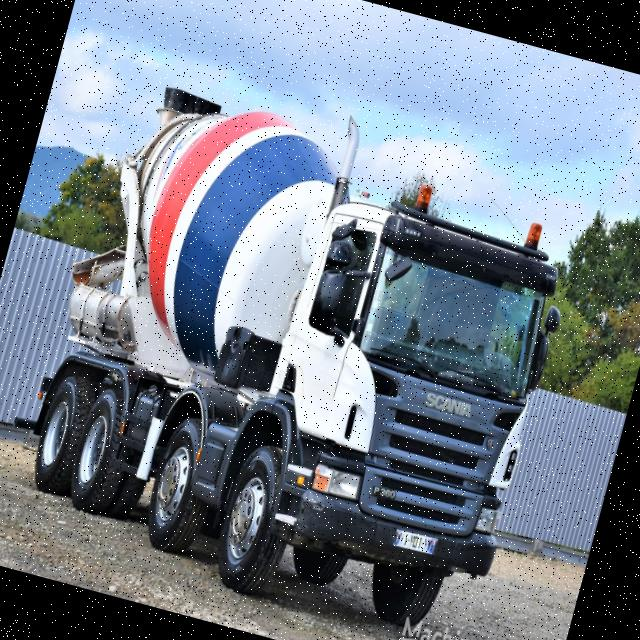Mixer Truck: (0, 71, 589, 640)
